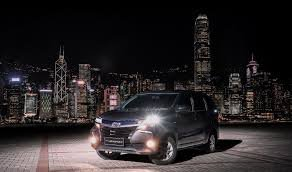mobil: (88, 89, 227, 164)
